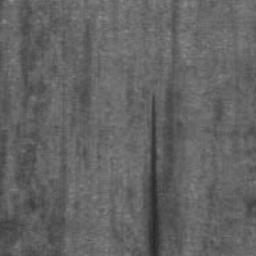Scratches: (149, 94, 160, 256)
